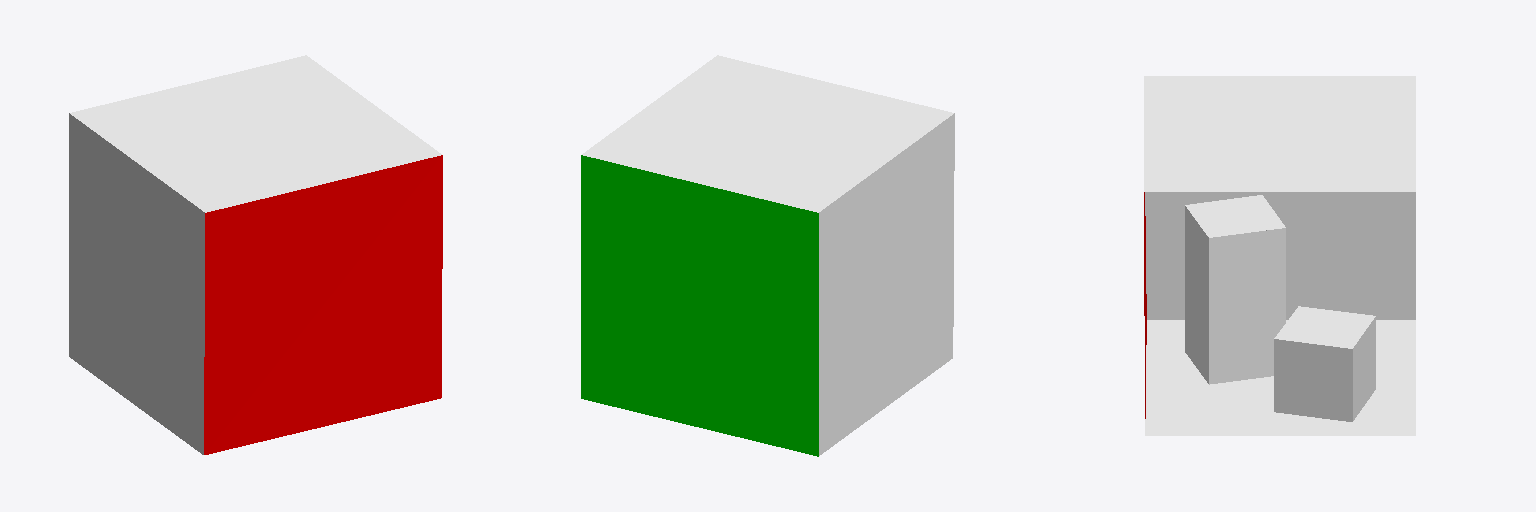
Rendered from cornell.obj.
3 renders of one model, left to right at view 1: azimuth 30°, elevation 25°; view 2: azimuth 150°, elevation 25°; view 3: azimuth 270°, elevation 25°, orthographic.
Visible parts, largest first — view 1: cornell_box; view 2: cornell_box; view 3: cornell_box.
Boxes of the visible parts, <box> form: cornell_box: <box>69,55,442,454</box>; cornell_box: <box>581,55,954,456</box>; cornell_box: <box>1144,76,1415,435</box>.
Size of the model in its own units: 78.06 by 76.61 by 77.62.